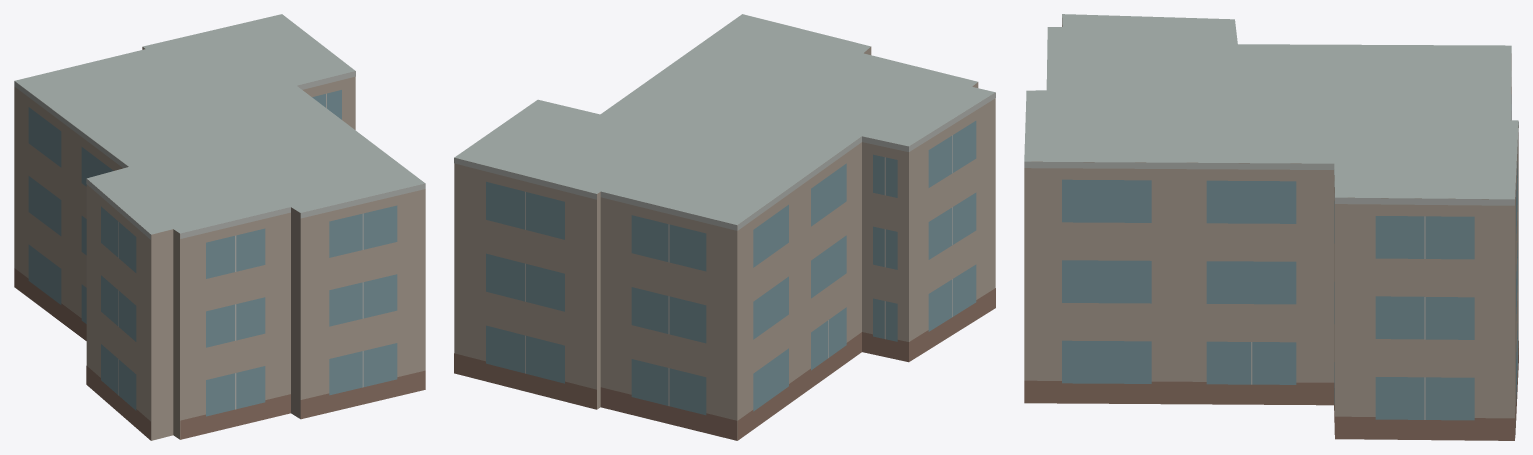
File: survey-upis-32694086.glb
3 renders of one model, left to right at view 1: azimuth 30°, elevation 25°; view 2: azimuth 150°, elevation 25°; view 3: azimuth 270°, elevation 25°, orthographic. The views are drawn at different scales.
Parts seen in each view (by area): view 1: survey-upis-32694086.tmp; view 2: survey-upis-32694086.tmp; view 3: survey-upis-32694086.tmp.
Boxes of the visible parts, <box> form: survey-upis-32694086.tmp: <box>14,14,425,440</box>; survey-upis-32694086.tmp: <box>454,14,995,440</box>; survey-upis-32694086.tmp: <box>1024,14,1518,440</box>.
Size of the model in its own units: 15.07 by 9.15 by 16.99.
